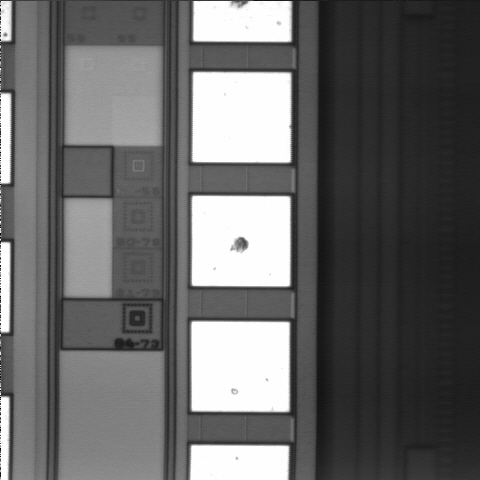pad: (193, 72, 291, 162), (192, 196, 290, 286), (191, 322, 289, 412)
